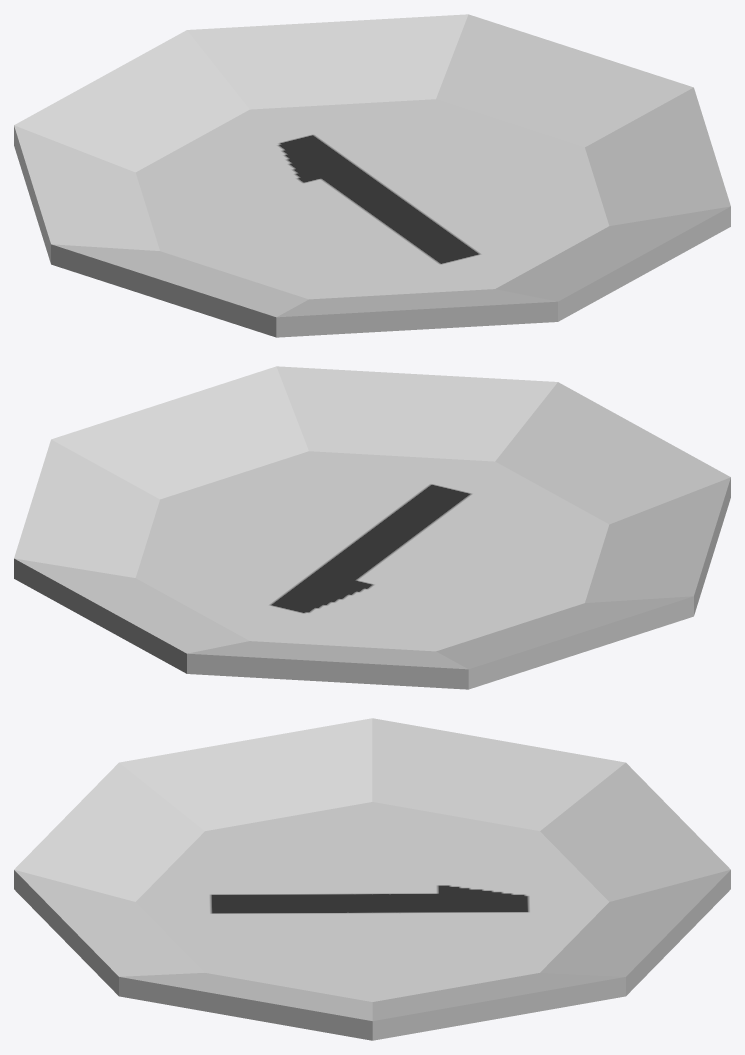
File: Dish_01.fbx
3 renders of one model, top to bottom at view 1: azimuth 30°, elevation 25°; view 2: azimuth 150°, elevation 25°; view 3: azimuth 270°, elevation 25°, orthographic. The views are drawn at different scales.
Parts seen in each view (by area): view 1: Dish_one; view 2: Dish_one; view 3: Dish_one.
Part boxes in pixels (x1,y1,x2,y2): Dish_one: (14,14,730,337); Dish_one: (14,366,730,689); Dish_one: (14,718,730,1040).
Bounding box in the file's own units: 59.87 × 5.8 × 59.87.
